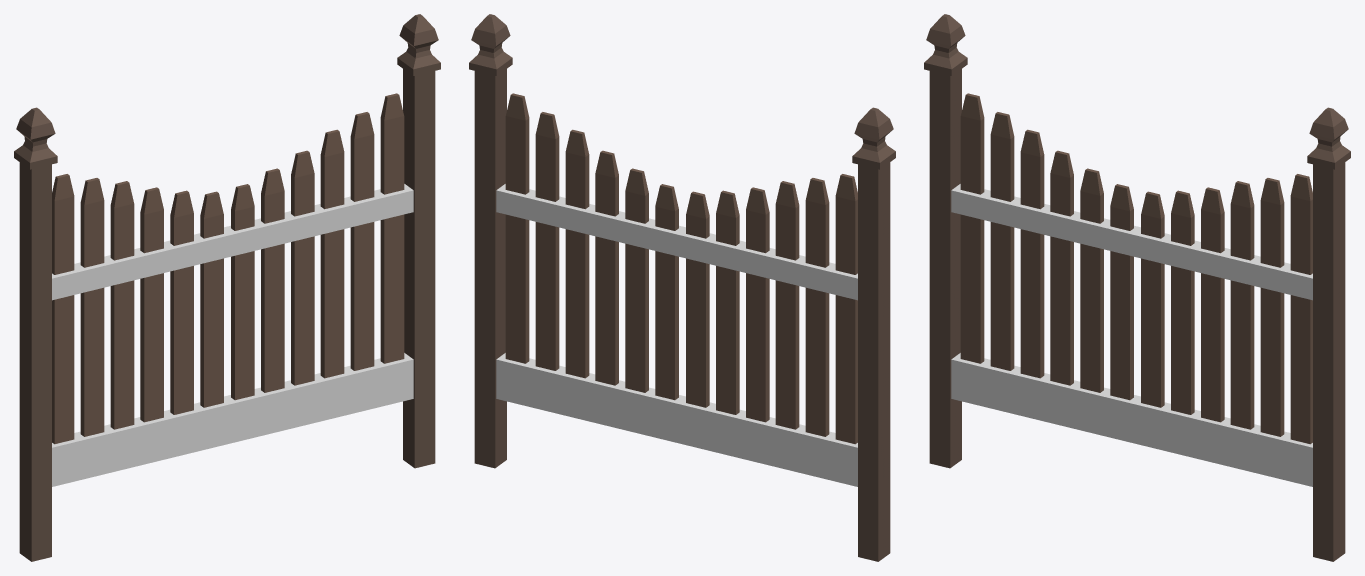
File: Fence.fbx
The picture shows the model from 3 angles, left to right: view 1: azimuth 30°, elevation 25°; view 2: azimuth 150°, elevation 25°; view 3: azimuth 330°, elevation 25°; orthographic projection.
Parts seen in each view (by area): view 1: Cube.033, Cube.029, Cube.031; view 2: Cube.033, Cube.029, Cube.031; view 3: Cube.033, Cube.029, Cube.031.
Boxes of the visible parts, x1=… form: Cube.033: x1=52, y1=93, x2=404, y2=444; Cube.029: x1=14, y1=14, x2=440, y2=561; Cube.031: x1=52, y1=184, x2=413, y2=486; Cube.033: x1=505, y1=93, x2=857, y2=444; Cube.029: x1=469, y1=14, x2=895, y2=561; Cube.031: x1=496, y1=184, x2=857, y2=486; Cube.033: x1=960, y1=93, x2=1312, y2=444; Cube.029: x1=924, y1=14, x2=1350, y2=561; Cube.031: x1=951, y1=184, x2=1312, y2=486.
Bounding box in the file's own units: 109 × 113 × 7.31.
